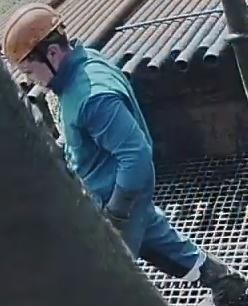gloves: (100, 196, 135, 237)
helmet: (3, 2, 65, 69)
vest: (61, 46, 157, 193)
